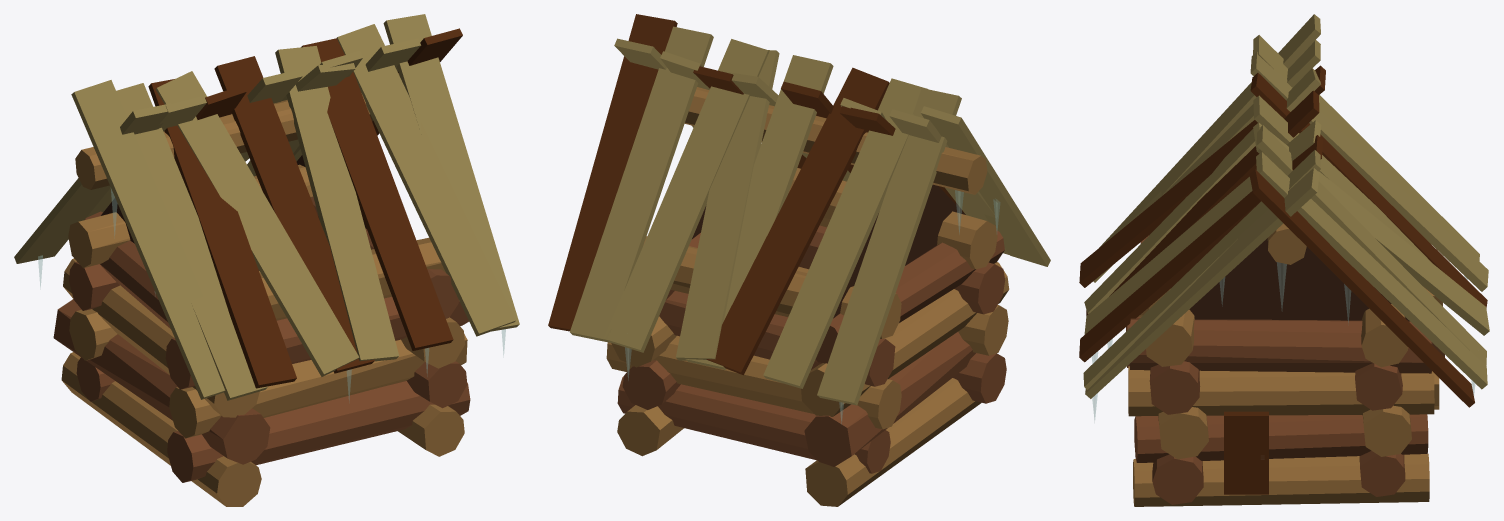
The model's file is house_2.fbx.
The picture shows the model from 3 angles, left to right: view 1: azimuth 30°, elevation 25°; view 2: azimuth 150°, elevation 25°; view 3: azimuth 270°, elevation 25°; orthographic projection.
Visible parts, largest first — view 1: Cube.012, Cube.017, Cube.003, Cube.001, Cube, Cube.004, Cube.002, Cylinder, Cube.016, Cube.013, Cylinder.001, Cylinder.009 (+22 smaller); view 2: Cube.006, Cube.009, Cube.014, Cube.005, Cube.018, Cube.008, Cube.015, Cube.007, Cylinder.004, Cylinder.009, Cylinder.008, Cylinder.005 (+21 smaller); view 3: Cylinder.015, Cylinder.014, Cylinder.012, Cube.010, Cylinder.013, Cube.014, Cube.015, Cube.005, Cube.013, Cube, Cube.009, Cube.008 (+20 smaller).
Boxes of the visible parts, bbox=[...] form: Cube.012: bbox=[337, 24, 515, 336]; Cube.017: bbox=[71, 80, 225, 399]; Cube.003: bbox=[155, 71, 359, 376]; Cube.001: bbox=[275, 46, 399, 361]; Cube: bbox=[301, 38, 453, 350]; Cube.004: bbox=[148, 79, 296, 388]; Cube.002: bbox=[214, 56, 374, 373]; Cylinder: bbox=[167, 381, 470, 482]; Cube.016: bbox=[116, 83, 267, 400]; Cube.013: bbox=[383, 14, 519, 331]; Cylinder.001: bbox=[169, 334, 467, 438]; Cylinder.009: bbox=[53, 299, 270, 464]; Cube.006: bbox=[706, 67, 889, 375]; Cube.009: bbox=[604, 39, 769, 352]; Cube.014: bbox=[570, 26, 713, 342]; Cube.005: bbox=[763, 78, 927, 388]; Cube.018: bbox=[817, 88, 961, 405]; Cube.008: bbox=[676, 50, 779, 360]; Cube.015: bbox=[548, 14, 677, 331]; Cube.007: bbox=[685, 55, 833, 369]; Cylinder.004: bbox=[617, 376, 890, 473]; Cylinder.009: bbox=[804, 332, 975, 466]; Cylinder.008: bbox=[805, 378, 981, 506]; Cylinder.005: bbox=[606, 335, 901, 429]; Cylinder.015: bbox=[1130, 317, 1432, 373]; Cylinder.014: bbox=[1128, 366, 1434, 416]; Cylinder.012: bbox=[1133, 453, 1429, 506]; Cube.010: bbox=[1189, 238, 1409, 321]; Cylinder.013: bbox=[1134, 414, 1428, 462]; Cube.014: bbox=[1256, 152, 1487, 389]; Cube.015: bbox=[1249, 169, 1474, 407]; Cube.005: bbox=[1250, 51, 1488, 291]; Cube.013: bbox=[1085, 168, 1319, 398]; Cube: bbox=[1079, 135, 1322, 362]; Cube.009: bbox=[1256, 125, 1486, 366]; Cube.008: bbox=[1253, 122, 1489, 335].
Size of the model in its own units: 922 by 901 by 928.
